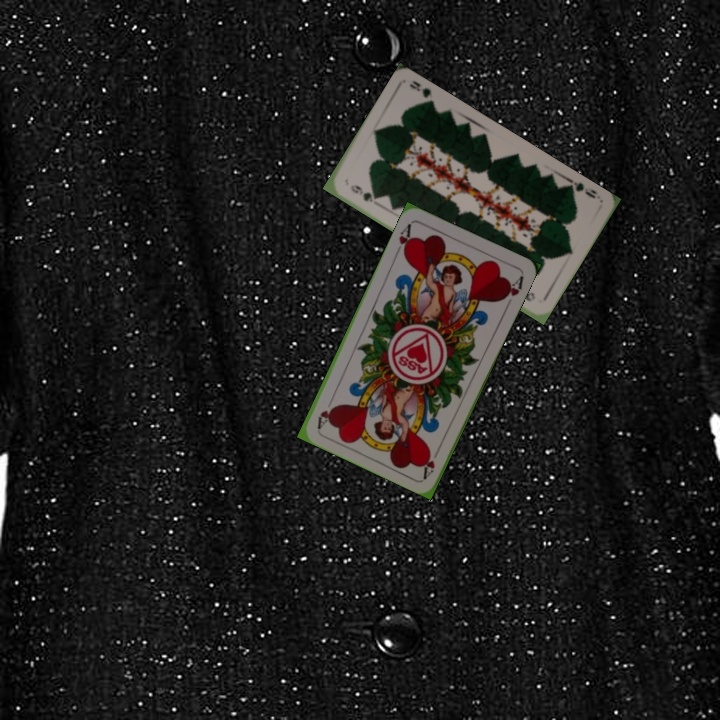G9: (563, 175, 599, 201), (346, 181, 380, 205)
HA: (391, 219, 415, 258), (419, 447, 437, 480)
